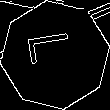L_E: (28, 35, 82, 75)
